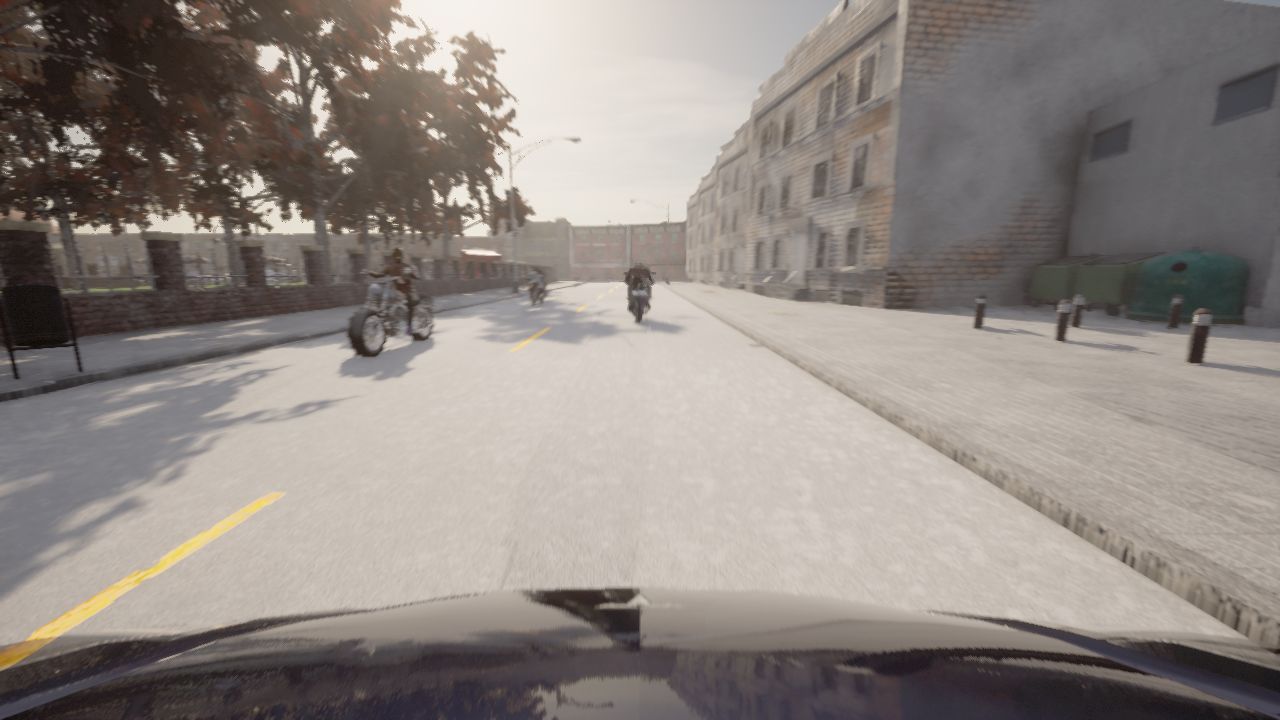cyclist: (0, 588, 1279, 719), (346, 268, 434, 357), (623, 273, 655, 323), (522, 272, 546, 304)
